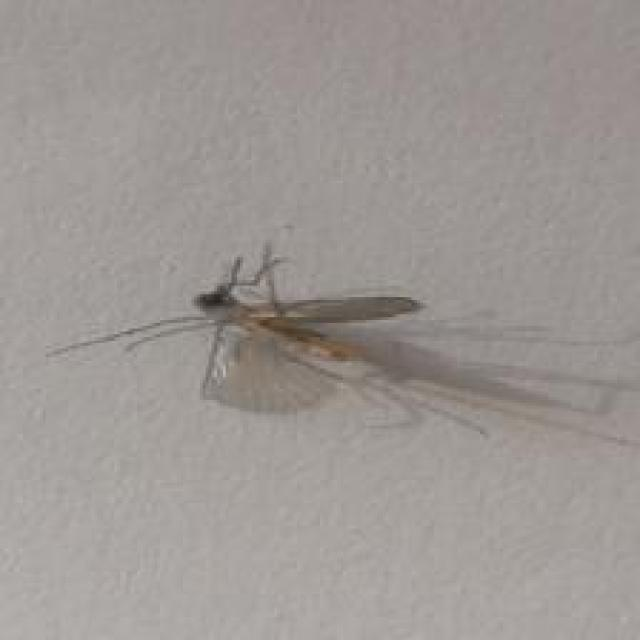Culex: (43, 238, 640, 458)
